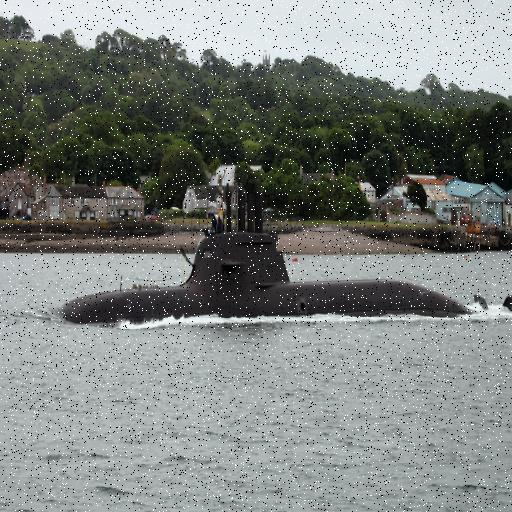submarine: (56, 170, 512, 322)
